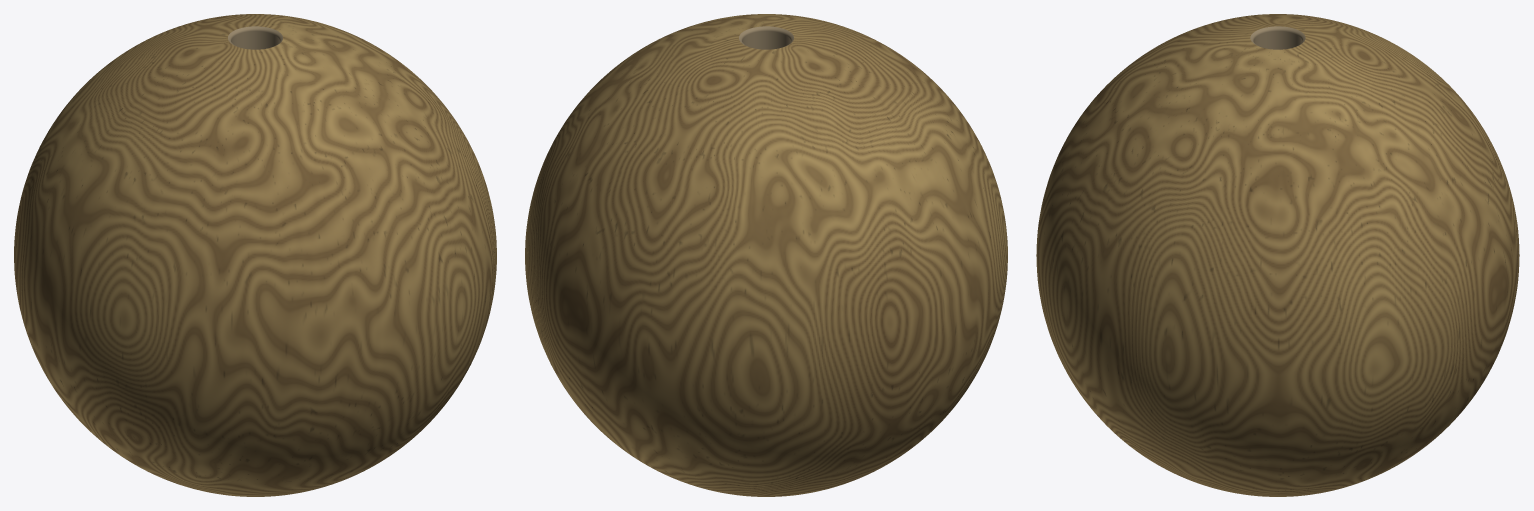
The model's file is wood-golden-nan-reference-10mm.glb.
The picture shows the model from 3 angles, left to right: view 1: azimuth 30°, elevation 25°; view 2: azimuth 150°, elevation 25°; view 3: azimuth 270°, elevation 25°; orthographic projection.
Visible parts, largest first — view 1: golden-nan-reference; view 2: golden-nan-reference; view 3: golden-nan-reference.
Part boxes in pixels (left/top/right/bottom): golden-nan-reference: left=14, top=14, right=496, bottom=496; golden-nan-reference: left=525, top=14, right=1007, bottom=496; golden-nan-reference: left=1036, top=14, right=1519, bottom=496.
Size of the model in its own units: 0.01 by 0.00993 by 0.01.
Materials: 2 (1 with a texture image).
